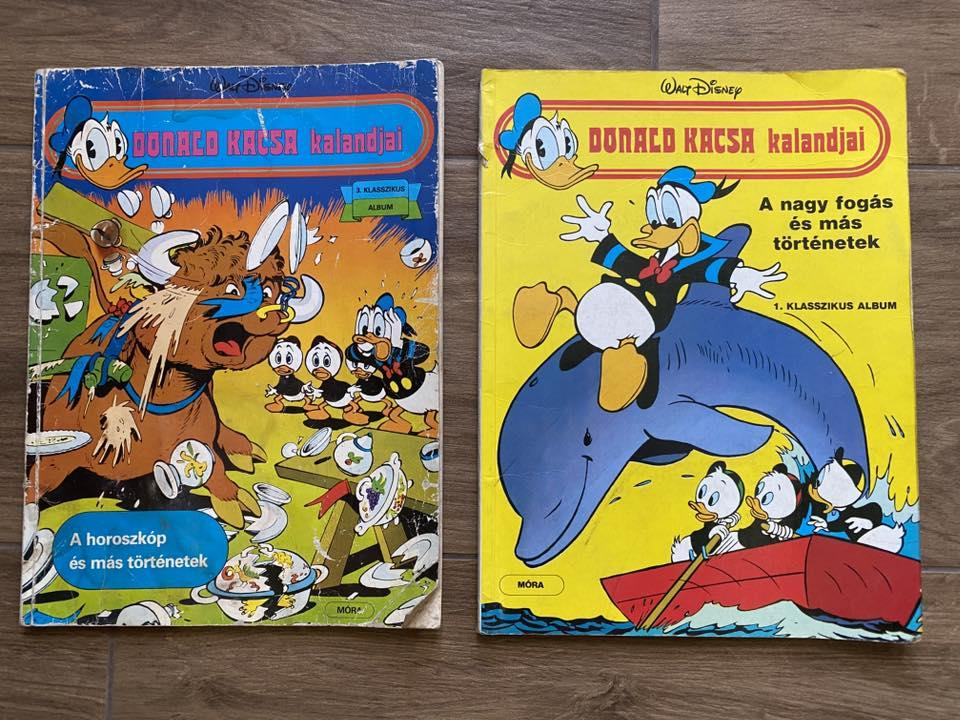comic: (480, 69, 922, 640), (22, 58, 442, 626)
